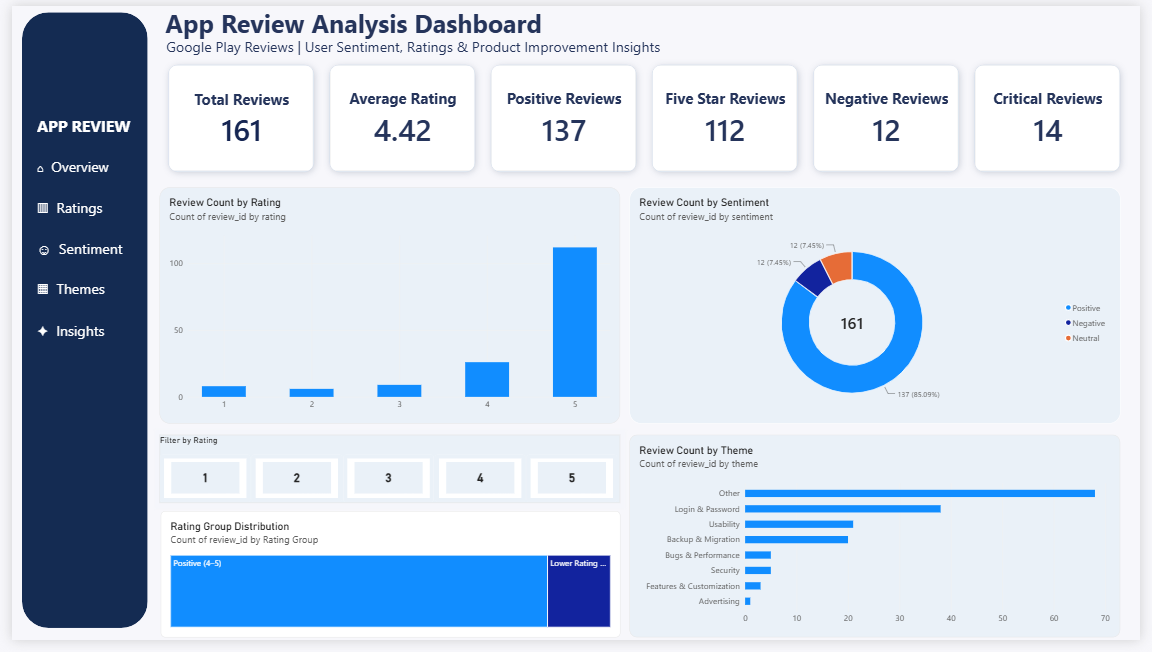

What the dashboard file says about the page in this screenshot:
{"tool":"powerbi","page":{"name":"Page 1","canvas":[1920,1080],"ordinal":0},"visuals":[{"type":"cardVisual","fields":{"Data":["CountNonNull(Analyzed Data.review_id)"]},"box":[266,100,248,182],"z":0},{"type":"cardVisual","fields":{"Data":["Avg(Analyzed Data.rating)"]},"box":[540.4,100,248,182],"z":1000},{"type":"cardVisual","fields":{"Data":["CountNonNull(Analyzed Data.sentiment)"]},"box":[814.8,100,248,182],"z":2000},{"type":"cardVisual","fields":{"Data":["CountNonNull(Analyzed Data.sentiment)"]},"box":[1363.6,100,248,182],"z":3000},{"type":"cardVisual","fields":{"Data":["Analyzed Data.Five Star Reviews"]},"box":[1089.2,100,248,182],"z":4000},{"type":"clusteredColumnChart","title":"Review Count by Rating","fields":{"Category":["Analyzed Data.rating"],"Y":["CountNonNull(Analyzed Data.review_id)"]},"box":[252,308,784,402],"z":5000},{"type":"donutChart","title":"Review Count by Sentiment","fields":{"Category":["Analyzed Data.sentiment"],"Y":["CountNonNull(Analyzed Data.review_id)"]},"box":[1050,308,836,402],"z":6000},{"type":"clusteredBarChart","title":"Review Count by Theme","fields":{"Category":["Analyzed Data.theme"],"Y":["CountNonNull(Analyzed Data.review_id)"]},"box":[1050,730,835,345],"z":7000},{"type":"cardVisual","fields":{"Data":["Analyzed Data.Critical Reviews Filtered"]},"box":[1638,100,248,182],"z":8000},{"type":"advancedSlicerVisual","fields":{"Values":["Analyzed Data.rating"]},"box":[252,730,784,116],"z":9000},{"type":"textbox","box":[1070,656,354,110],"z":10000},{"type":"textbox","box":[1570,330,350,280],"z":11000},{"type":"textbox","box":[142,0,72,102],"z":12000},{"type":"textbox","box":[1372,766,267,292],"z":13000},{"type":"textbox","box":[6,808,208,252],"z":14000},{"type":"textbox","box":[1570,709,350,150],"z":15000},{"type":"textbox","box":[1639,859,281,199],"z":16000},{"type":"textbox","box":[6,430,172,280],"z":17000},{"type":"textbox","box":[671,430,238,280],"z":18000},{"type":"textbox","box":[909,430,161,280],"z":19000},{"type":"textbox","box":[92,0,980,108],"z":20000},{"type":"textbox","box":[214,54,936,46],"z":21000},{"type":"shape","box":[18,10,214,1048],"z":22000},{"type":"textbox","box":[1770,808,150,252],"z":23000},{"type":"textbox","box":[1770,808,150,252],"z":24000},{"type":"textbox","box":[1770,808,150,252],"z":25000},{"type":"textbox","box":[78,808,78,104],"z":26000},{"type":"textbox","box":[42.5,185,170,825],"z":28000},{"type":"treemap","title":"Rating Group Distribution","fields":{"Group":["Analyzed Data.Rating Group"],"Values":["CountNonNull(Analyzed Data.review_id)"]},"box":[252.5,860,782.5,215],"z":28001}]}

Visuals, with their boxes on the page's 1920x1080 design canvas (x1, y1, x2, y2). These are canvas units, not pixel positions in the 1152x652 screenshot, which may show the page scaled, cropped or inside an application window:
cardVisual - CountNonNull(Analyzed Data.review_id): bbox(266, 100, 514, 282)
cardVisual - Avg(Analyzed Data.rating): bbox(540, 100, 788, 282)
cardVisual - CountNonNull(Analyzed Data.sentiment): bbox(815, 100, 1063, 282)
cardVisual - CountNonNull(Analyzed Data.sentiment): bbox(1364, 100, 1612, 282)
cardVisual - Analyzed Data.Five Star Reviews: bbox(1089, 100, 1337, 282)
"Review Count by Rating" clusteredColumnChart: bbox(252, 308, 1036, 710)
"Review Count by Sentiment" donutChart: bbox(1050, 308, 1886, 710)
"Review Count by Theme" clusteredBarChart: bbox(1050, 730, 1885, 1075)
cardVisual - Analyzed Data.Critical Reviews Filtered: bbox(1638, 100, 1886, 282)
advancedSlicerVisual - Analyzed Data.rating: bbox(252, 730, 1036, 846)
textbox: bbox(1070, 656, 1424, 766)
textbox: bbox(1570, 330, 1920, 610)
textbox: bbox(142, 0, 214, 102)
textbox: bbox(1372, 766, 1639, 1058)
textbox: bbox(6, 808, 214, 1060)
textbox: bbox(1570, 709, 1920, 859)
textbox: bbox(1639, 859, 1920, 1058)
textbox: bbox(6, 430, 178, 710)
textbox: bbox(671, 430, 909, 710)
textbox: bbox(909, 430, 1070, 710)
textbox: bbox(92, 0, 1072, 108)
textbox: bbox(214, 54, 1150, 100)
shape: bbox(18, 10, 232, 1058)
textbox: bbox(1770, 808, 1920, 1060)
textbox: bbox(1770, 808, 1920, 1060)
textbox: bbox(1770, 808, 1920, 1060)
textbox: bbox(78, 808, 156, 912)
textbox: bbox(42, 185, 212, 1010)
"Rating Group Distribution" treemap: bbox(252, 860, 1035, 1075)
